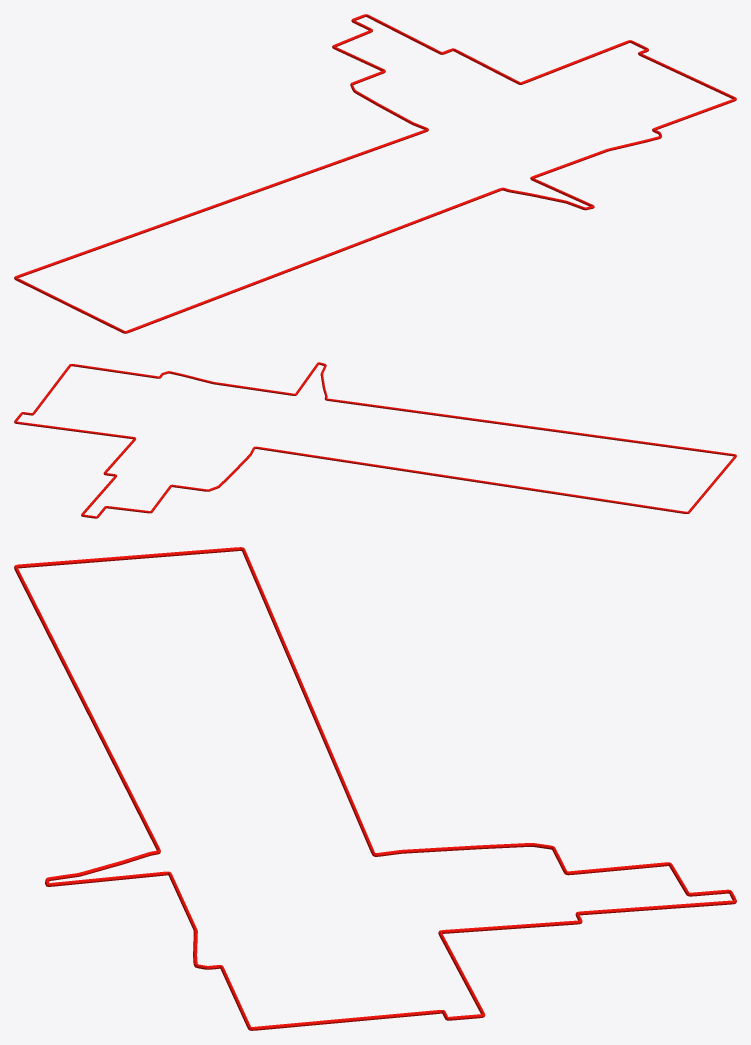
Rendered from RedLine (1).dae.
The picture shows the model from 3 angles, top to bottom: view 1: azimuth 30°, elevation 25°; view 2: azimuth 150°, elevation 25°; view 3: azimuth 270°, elevation 25°; orthographic projection. The views are drawn at different scales.
Parts seen in each view (by area): view 1: Плоскость; view 2: Плоскость; view 3: Плоскость.
Part boxes in pixels (x1,y1,x2,y2): Плоскость: [14, 14, 736, 333]; Плоскость: [14, 362, 736, 518]; Плоскость: [14, 547, 736, 1030].
Bounding box in the file's own units: 4125 × 2618 × 14.73.
